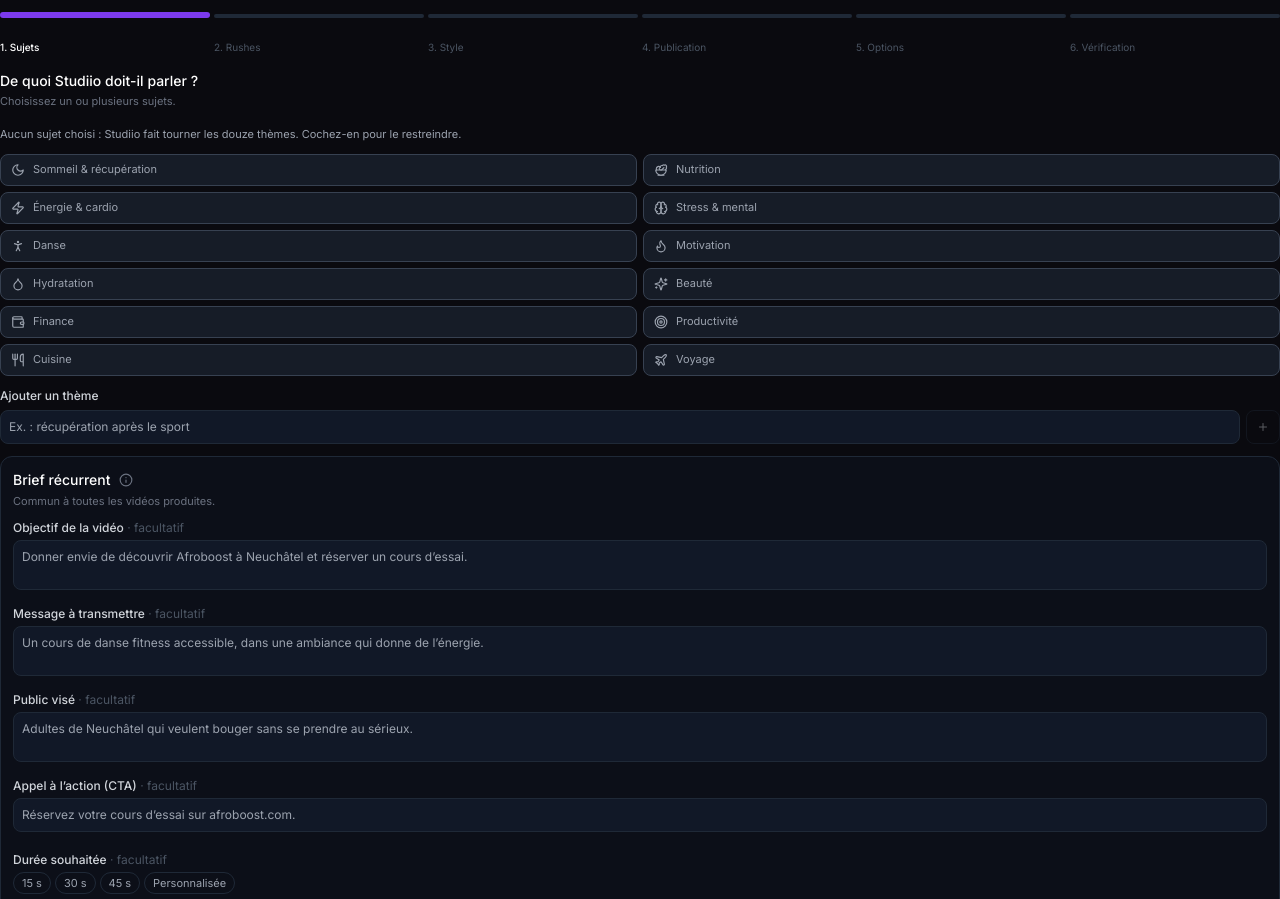
Test case: A — l étape existe et annonce ce qu elle règle › elle dit que ces réglages valent pour TOUTES les futures vidéos
Step 1. Click the button named "Style" → (533, 16), box [428, 14, 638, 18]
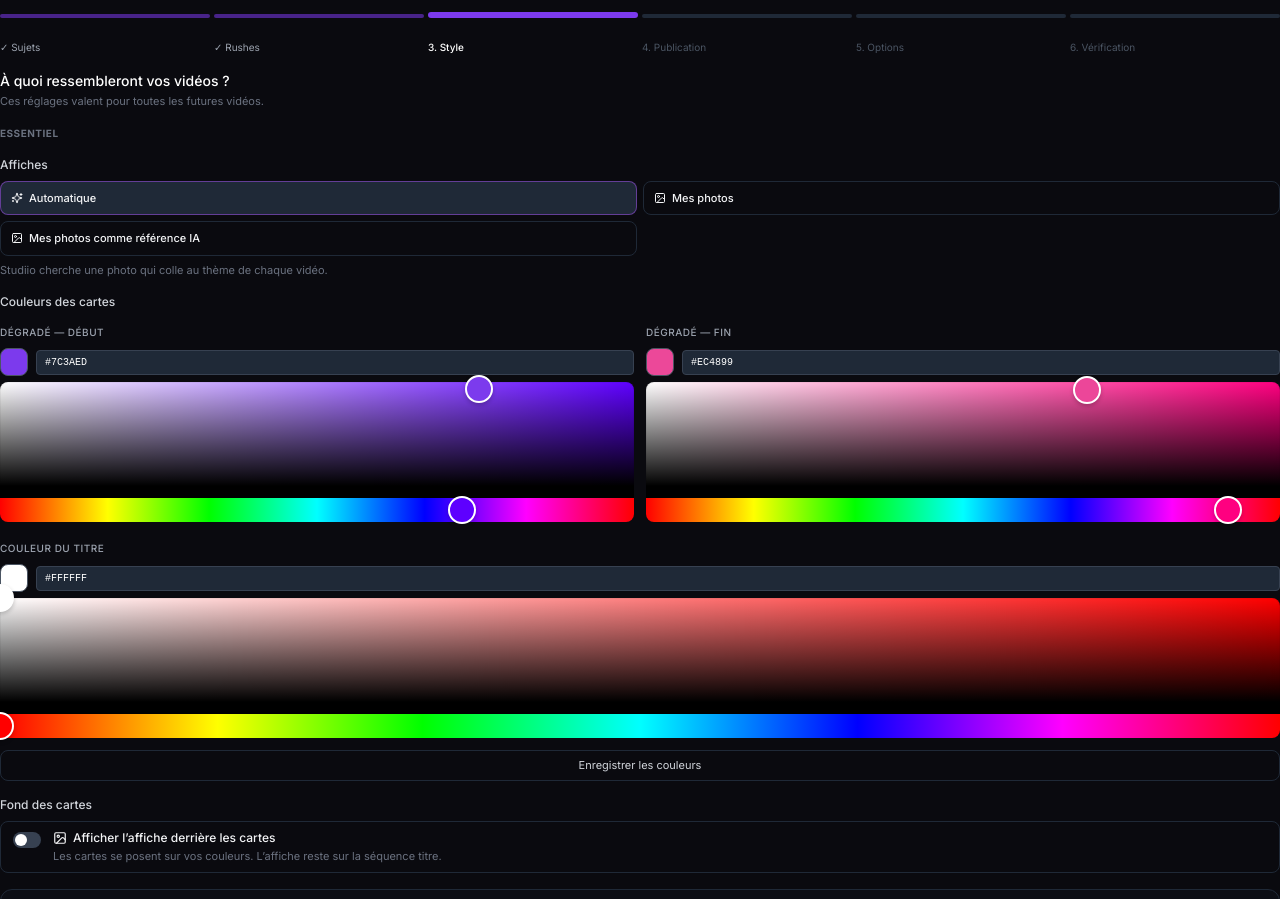
Expected: the text "À quoi ressembleront vos vidéos ?" is shown, [0, 72, 230, 89]
Expected: the text "Ces réglages valent pour toutes les futures vidéos." is shown, [0, 94, 264, 108]
